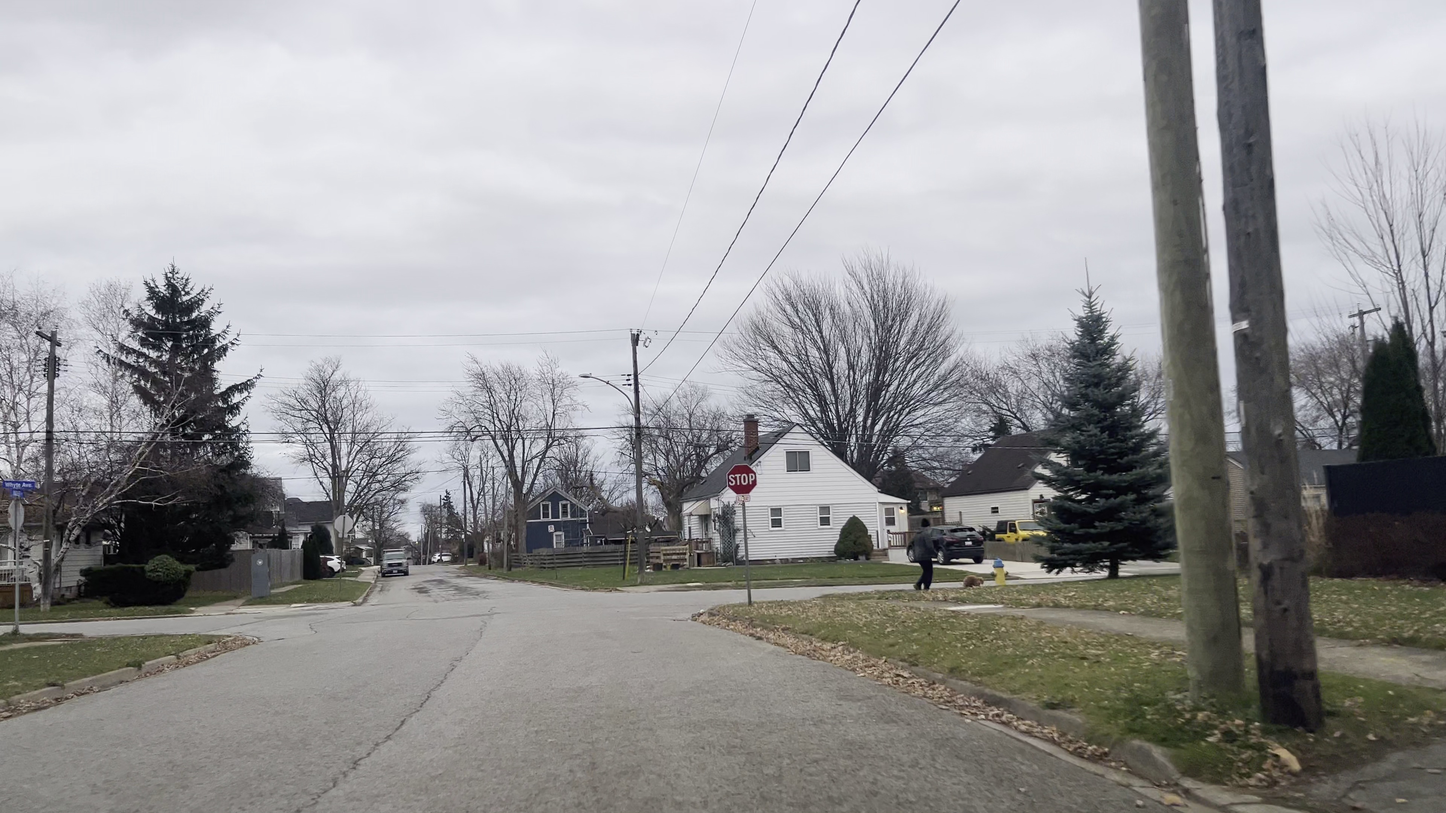cracks: (373, 700, 422, 753), (418, 659, 467, 709), (410, 575, 485, 606), (330, 755, 373, 804)
